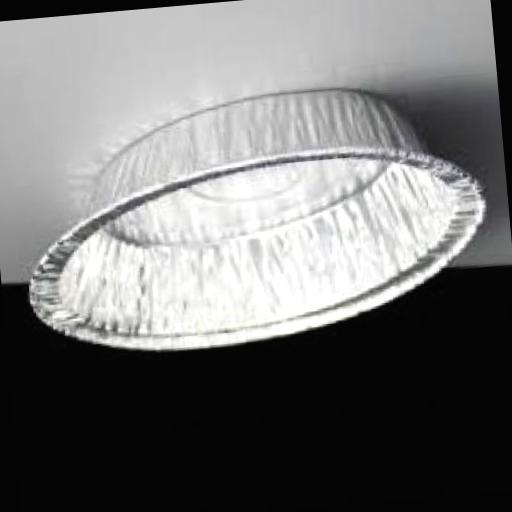metal: (16, 78, 499, 368)
